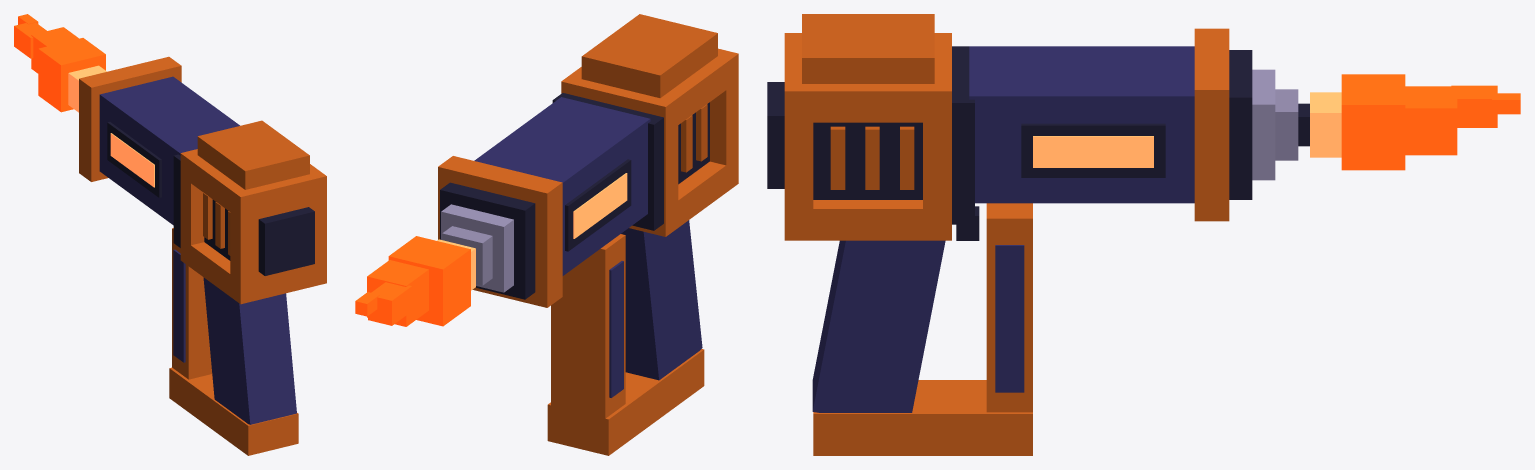
File: welder.lod1.glb
3 views of the same model, side by side, from view 1: azimuth 30°, elevation 25°; view 2: azimuth 150°, elevation 25°; view 3: azimuth 270°, elevation 25° (orthographic). The views are drawn at different scales.
Visible parts, largest first — view 1: item.welder.body, part.flame; view 2: item.welder.body, part.flame; view 3: item.welder.body, part.flame.
Boxes of the visible parts, left/top/right/bottom form: item.welder.body: left=79, top=56, right=326, bottom=455; part.flame: left=14, top=14, right=106, bottom=112; item.welder.body: left=438, top=14, right=738, bottom=455; part.flame: left=355, top=236, right=475, bottom=326; item.welder.body: left=767, top=14, right=1309, bottom=455; part.flame: left=1310, top=74, right=1520, bottom=170.
Size of the model in its own units: 0.1569 by 0.4812 by 0.8156.
